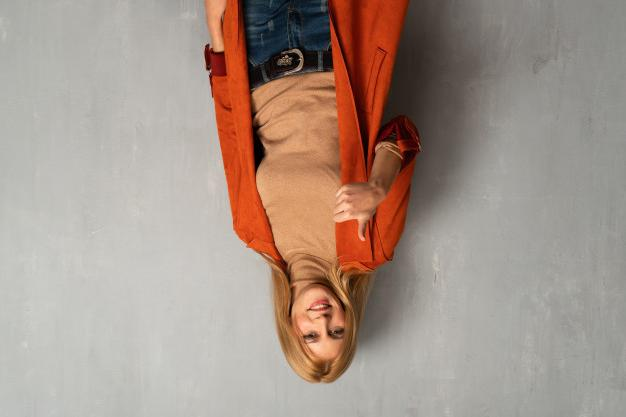thumbsdown: (333, 183, 367, 242)
